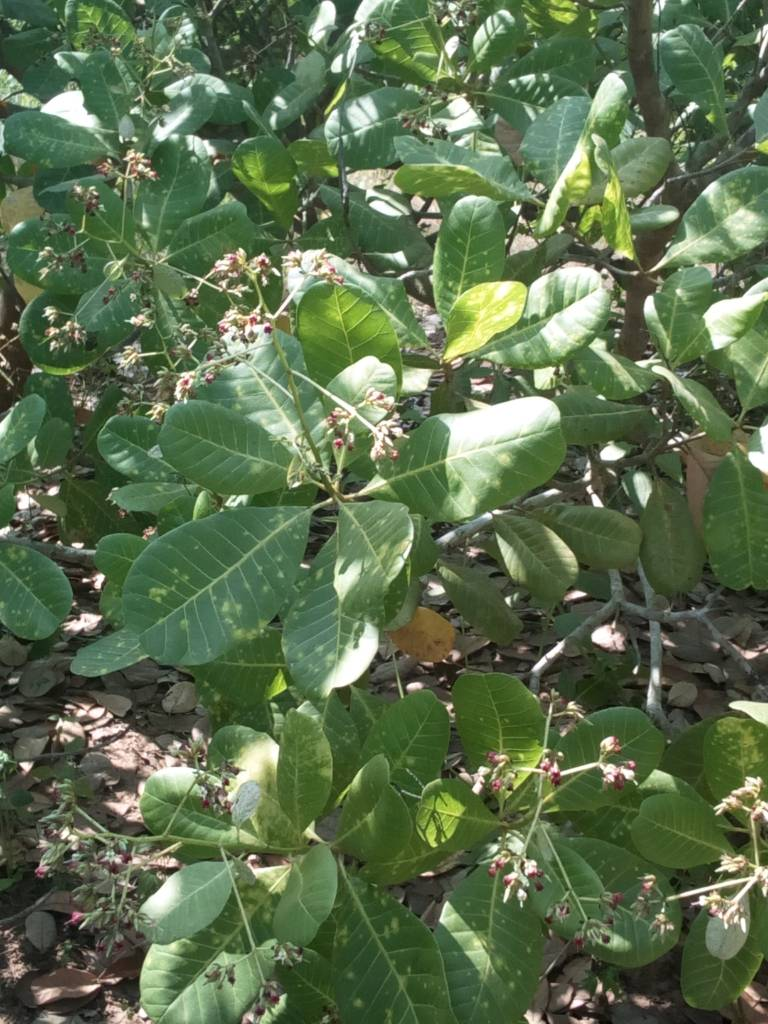Carence minérale: (122, 500, 315, 666), (374, 389, 579, 525), (516, 822, 702, 967), (324, 875, 505, 1024), (1, 516, 77, 668), (269, 711, 347, 836), (705, 707, 768, 830)
